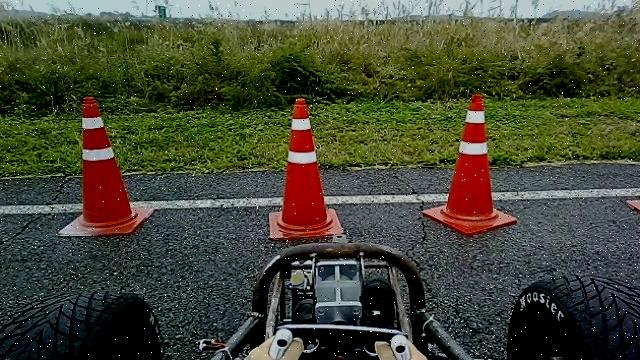red cone: (421, 93, 519, 235), (57, 95, 153, 237), (268, 96, 344, 240)
